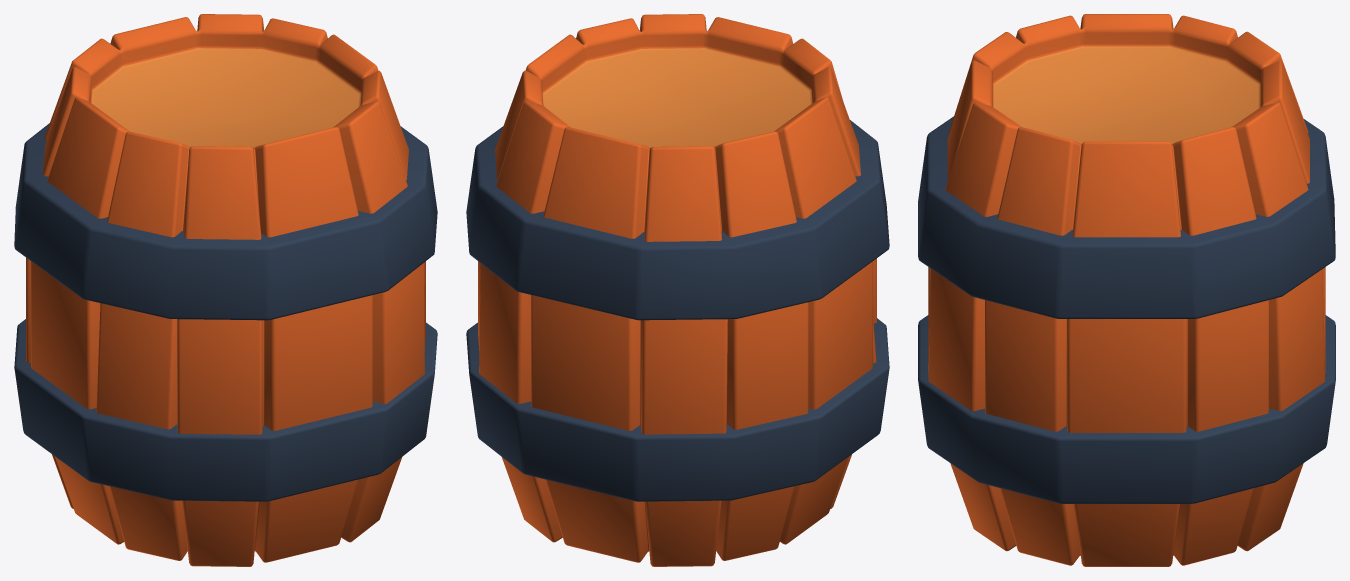
The model's file is Wall_Tile_Barrel.fbx.
3 renders of one model, left to right at view 1: azimuth 30°, elevation 25°; view 2: azimuth 150°, elevation 25°; view 3: azimuth 270°, elevation 25°, orthographic.
Visible parts, largest first — view 1: Wall_Tile_Barrel; view 2: Wall_Tile_Barrel; view 3: Wall_Tile_Barrel.
Boxes of the visible parts, x1,y1,x2,y2 form: Wall_Tile_Barrel: (14,14,437,566); Wall_Tile_Barrel: (466,14,889,566); Wall_Tile_Barrel: (918,14,1335,566).
Bounding box in the file's own units: 2 × 2 × 2.25.
